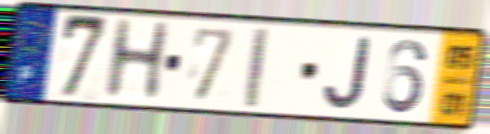6: (382, 37, 429, 116)
7: (59, 11, 110, 102), (189, 24, 237, 104)
H: (99, 16, 174, 102)
I: (244, 24, 271, 111)
J: (320, 34, 375, 113)
